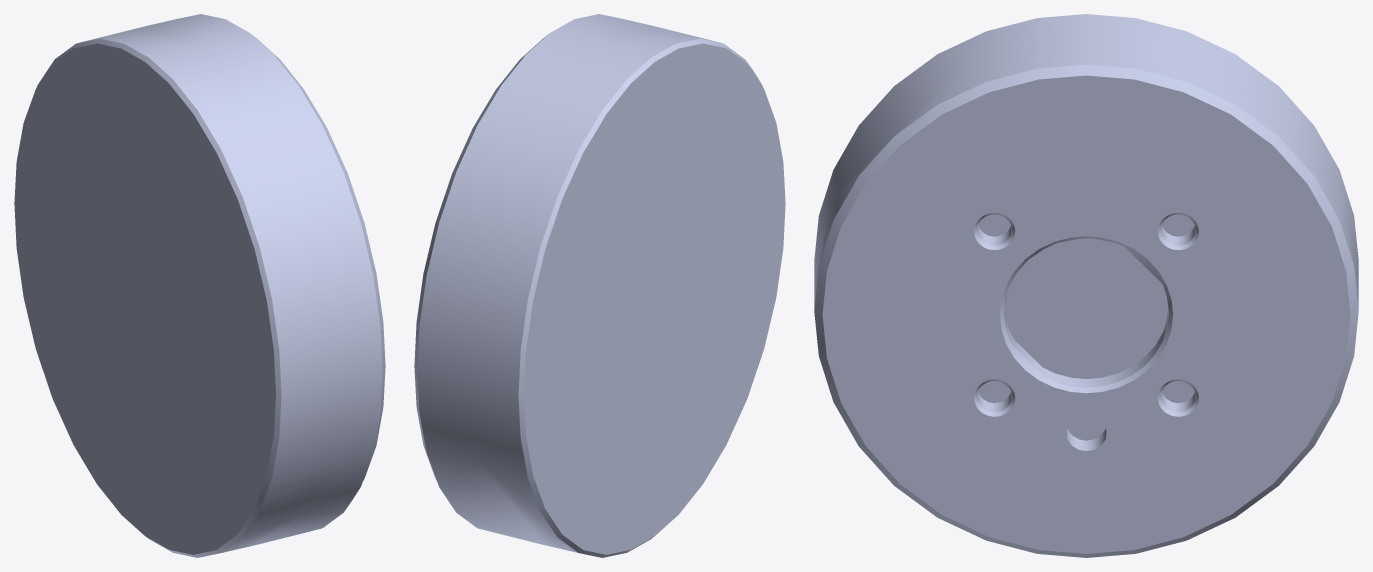
3 views of the same model, side by side, from view 1: azimuth 30°, elevation 25°; view 2: azimuth 150°, elevation 25°; view 3: azimuth 270°, elevation 25° (orthographic). The views are drawn at different scales.
Visible parts, largest first — view 1: ae3696b2-d4ac-4679-9dad-9536163de2ed; view 2: ae3696b2-d4ac-4679-9dad-9536163de2ed; view 3: ae3696b2-d4ac-4679-9dad-9536163de2ed.
Part boxes in pixels (<box>): ae3696b2-d4ac-4679-9dad-9536163de2ed: <box>14,14,385,557</box>; ae3696b2-d4ac-4679-9dad-9536163de2ed: <box>414,14,785,557</box>; ae3696b2-d4ac-4679-9dad-9536163de2ed: <box>814,14,1358,557</box>.
Size of the model in its own units: 0.016 by 0.066 by 0.066.
